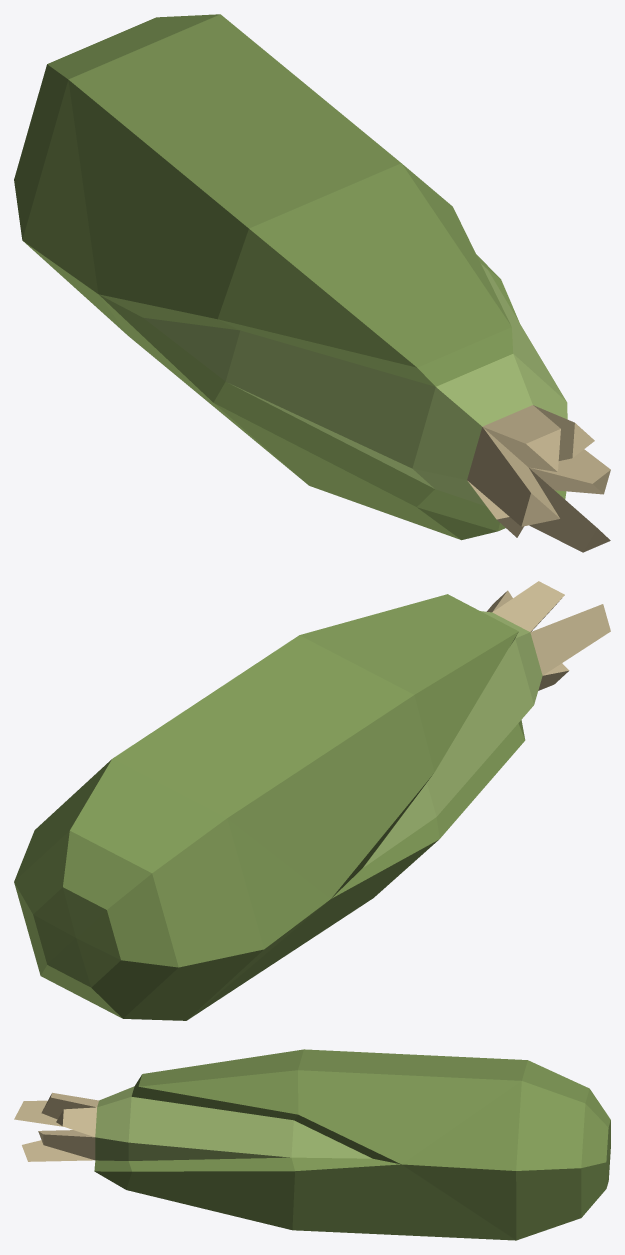
The model's file is SM_Item_Corn_01.fbx.
The picture shows the model from 3 angles, top to bottom: view 1: azimuth 30°, elevation 25°; view 2: azimuth 150°, elevation 25°; view 3: azimuth 270°, elevation 25°; orthographic projection. The views are drawn at different scales.
Parts seen in each view (by area): view 1: SM_Item_Corn_01; view 2: SM_Item_Corn_01; view 3: SM_Item_Corn_01.
Part boxes in pixels (x1=…): SM_Item_Corn_01: x1=14, y1=14, x2=610, y2=552; SM_Item_Corn_01: x1=14, y1=581, x2=610, y2=1020; SM_Item_Corn_01: x1=14, y1=1049, x2=610, y2=1240.
Size of the model in its own units: 16.1 by 15.46 by 49.97.
